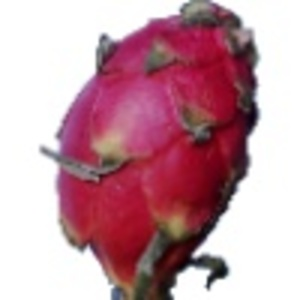pitaia: (42, 1, 263, 300)
